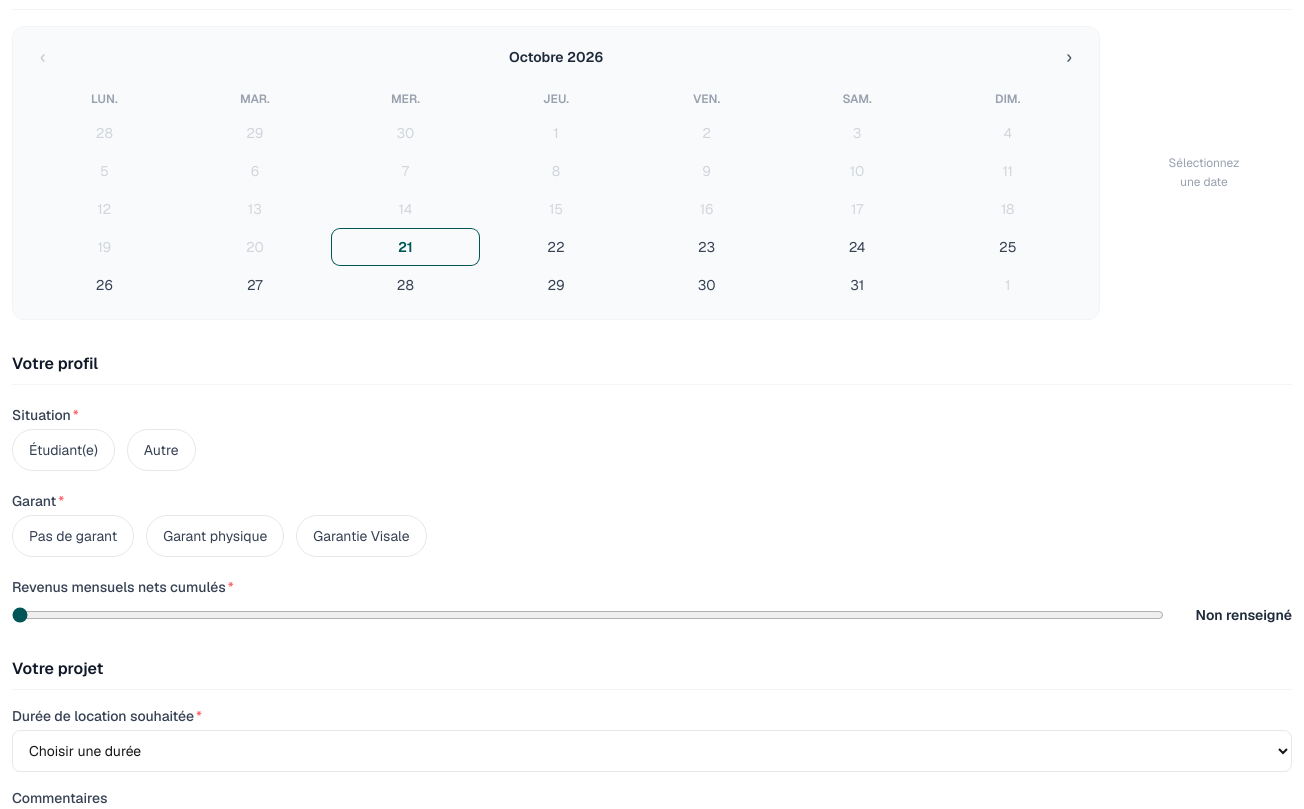
Test: VisitorForm — profil › affiche un avertissement bloquant si la situation n'est pas étudiant
(page scrolled)
Click the radio button labelled "Autre" at coordinates (161, 450), box [127,429,196,471]
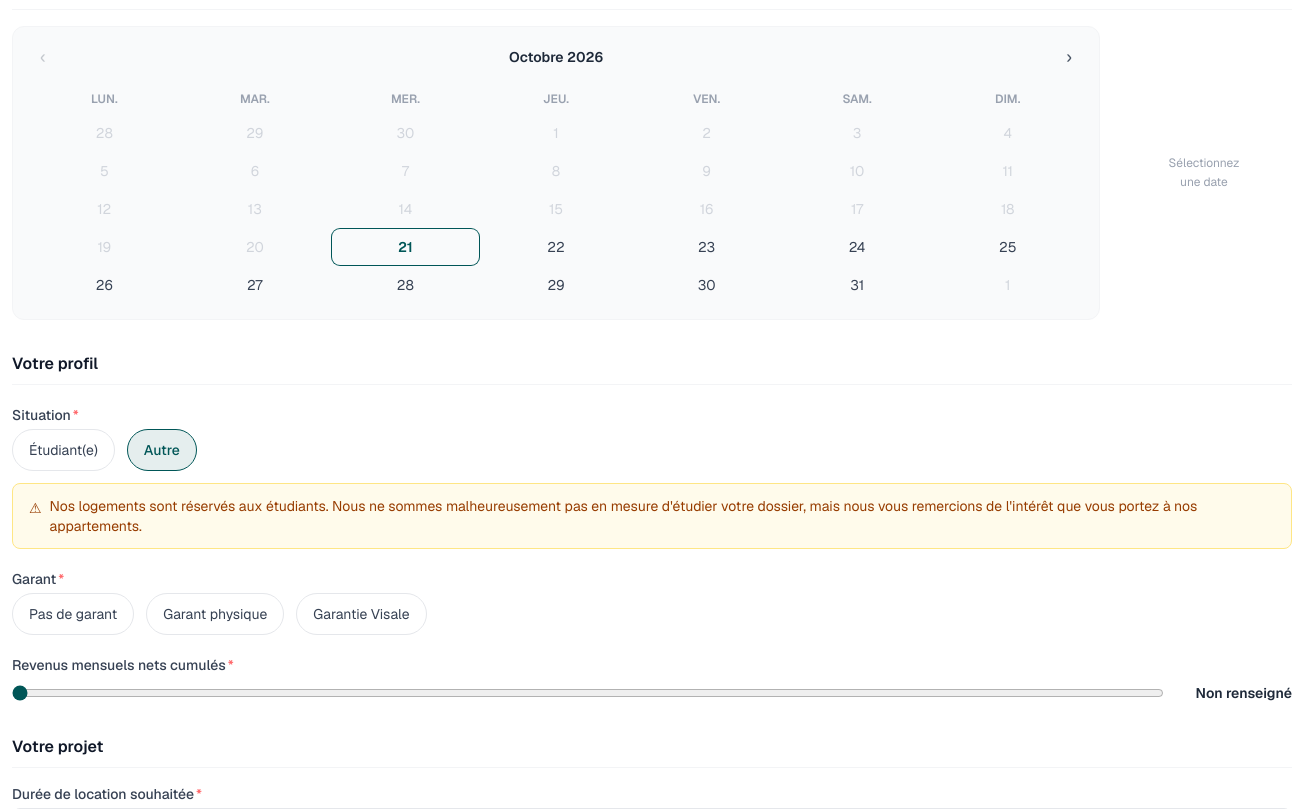
Result: the text "réservés aux étudiants" is shown at [50,497,1197,535]
